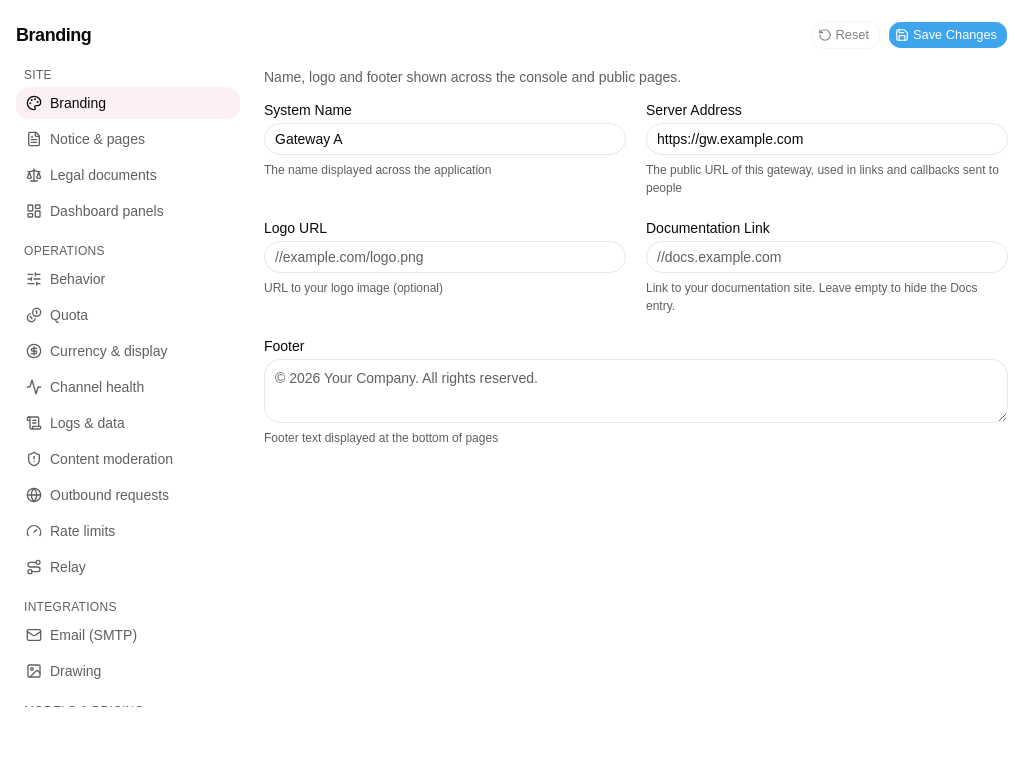
Test: option engine › surfaces a refusal sent as HTTP 200 success:false and keeps the edit
Replace the text in the field labelled "System Name" with "Reserved" at (445, 139), box 264,123 -> 626,155
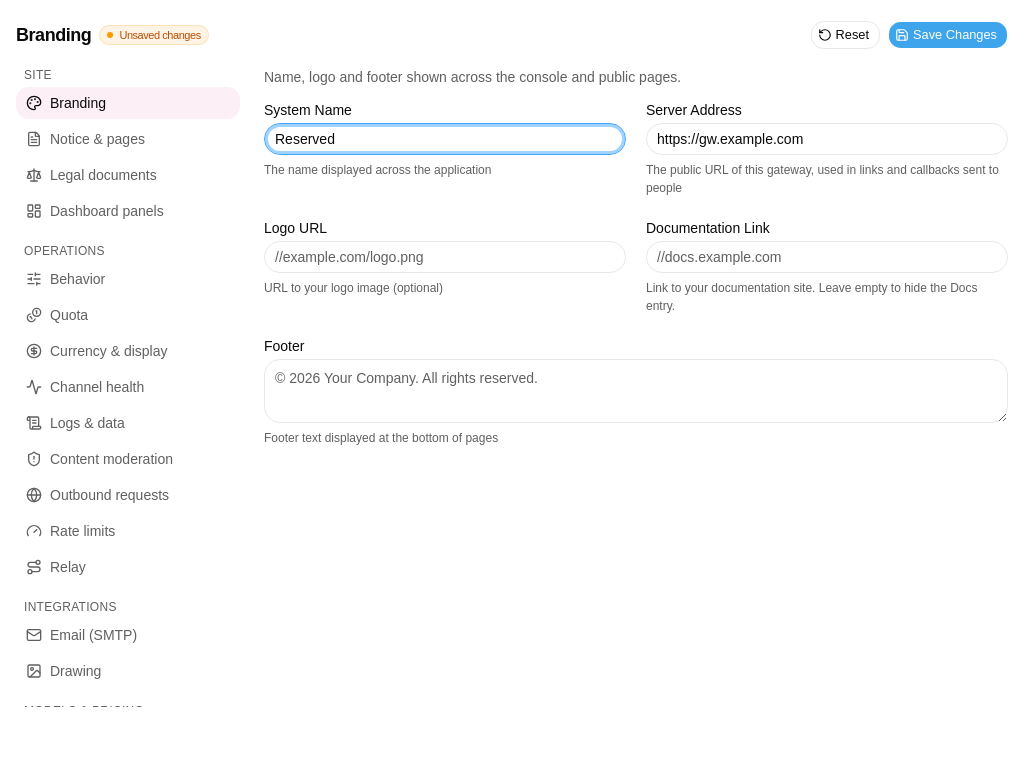
Click the button "Save Changes".
click(948, 35)  # box 888,21 -> 1008,49
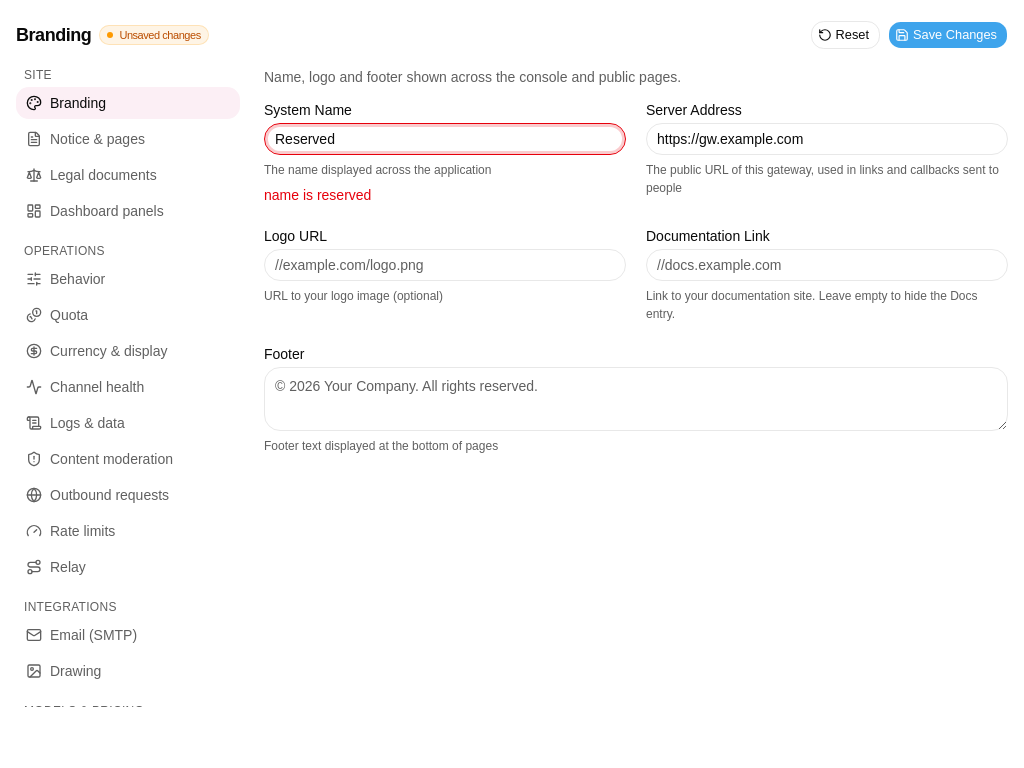
Check: the text "name is reserved" is shown, box 264,187 -> 371,203
